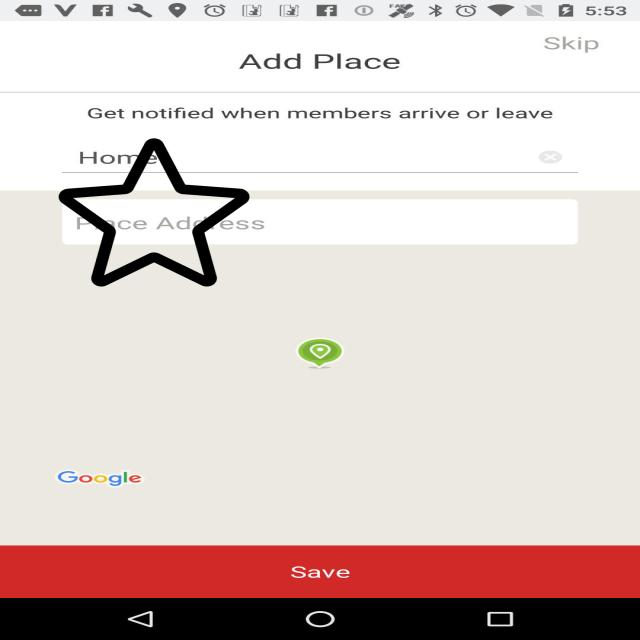forced continuity: (58, 135, 250, 290)
